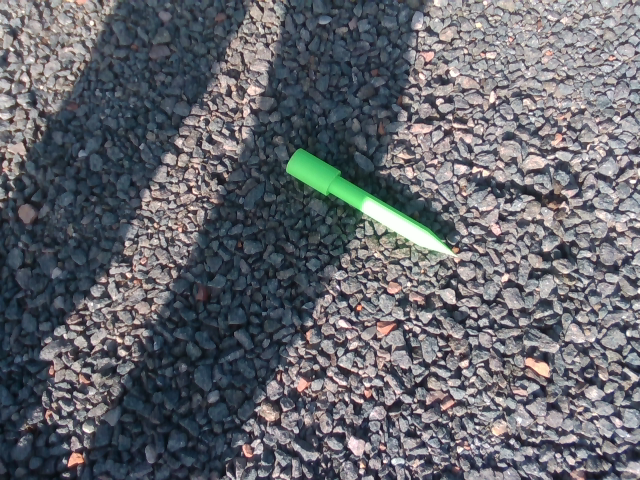Probe: (282, 145, 466, 262)
